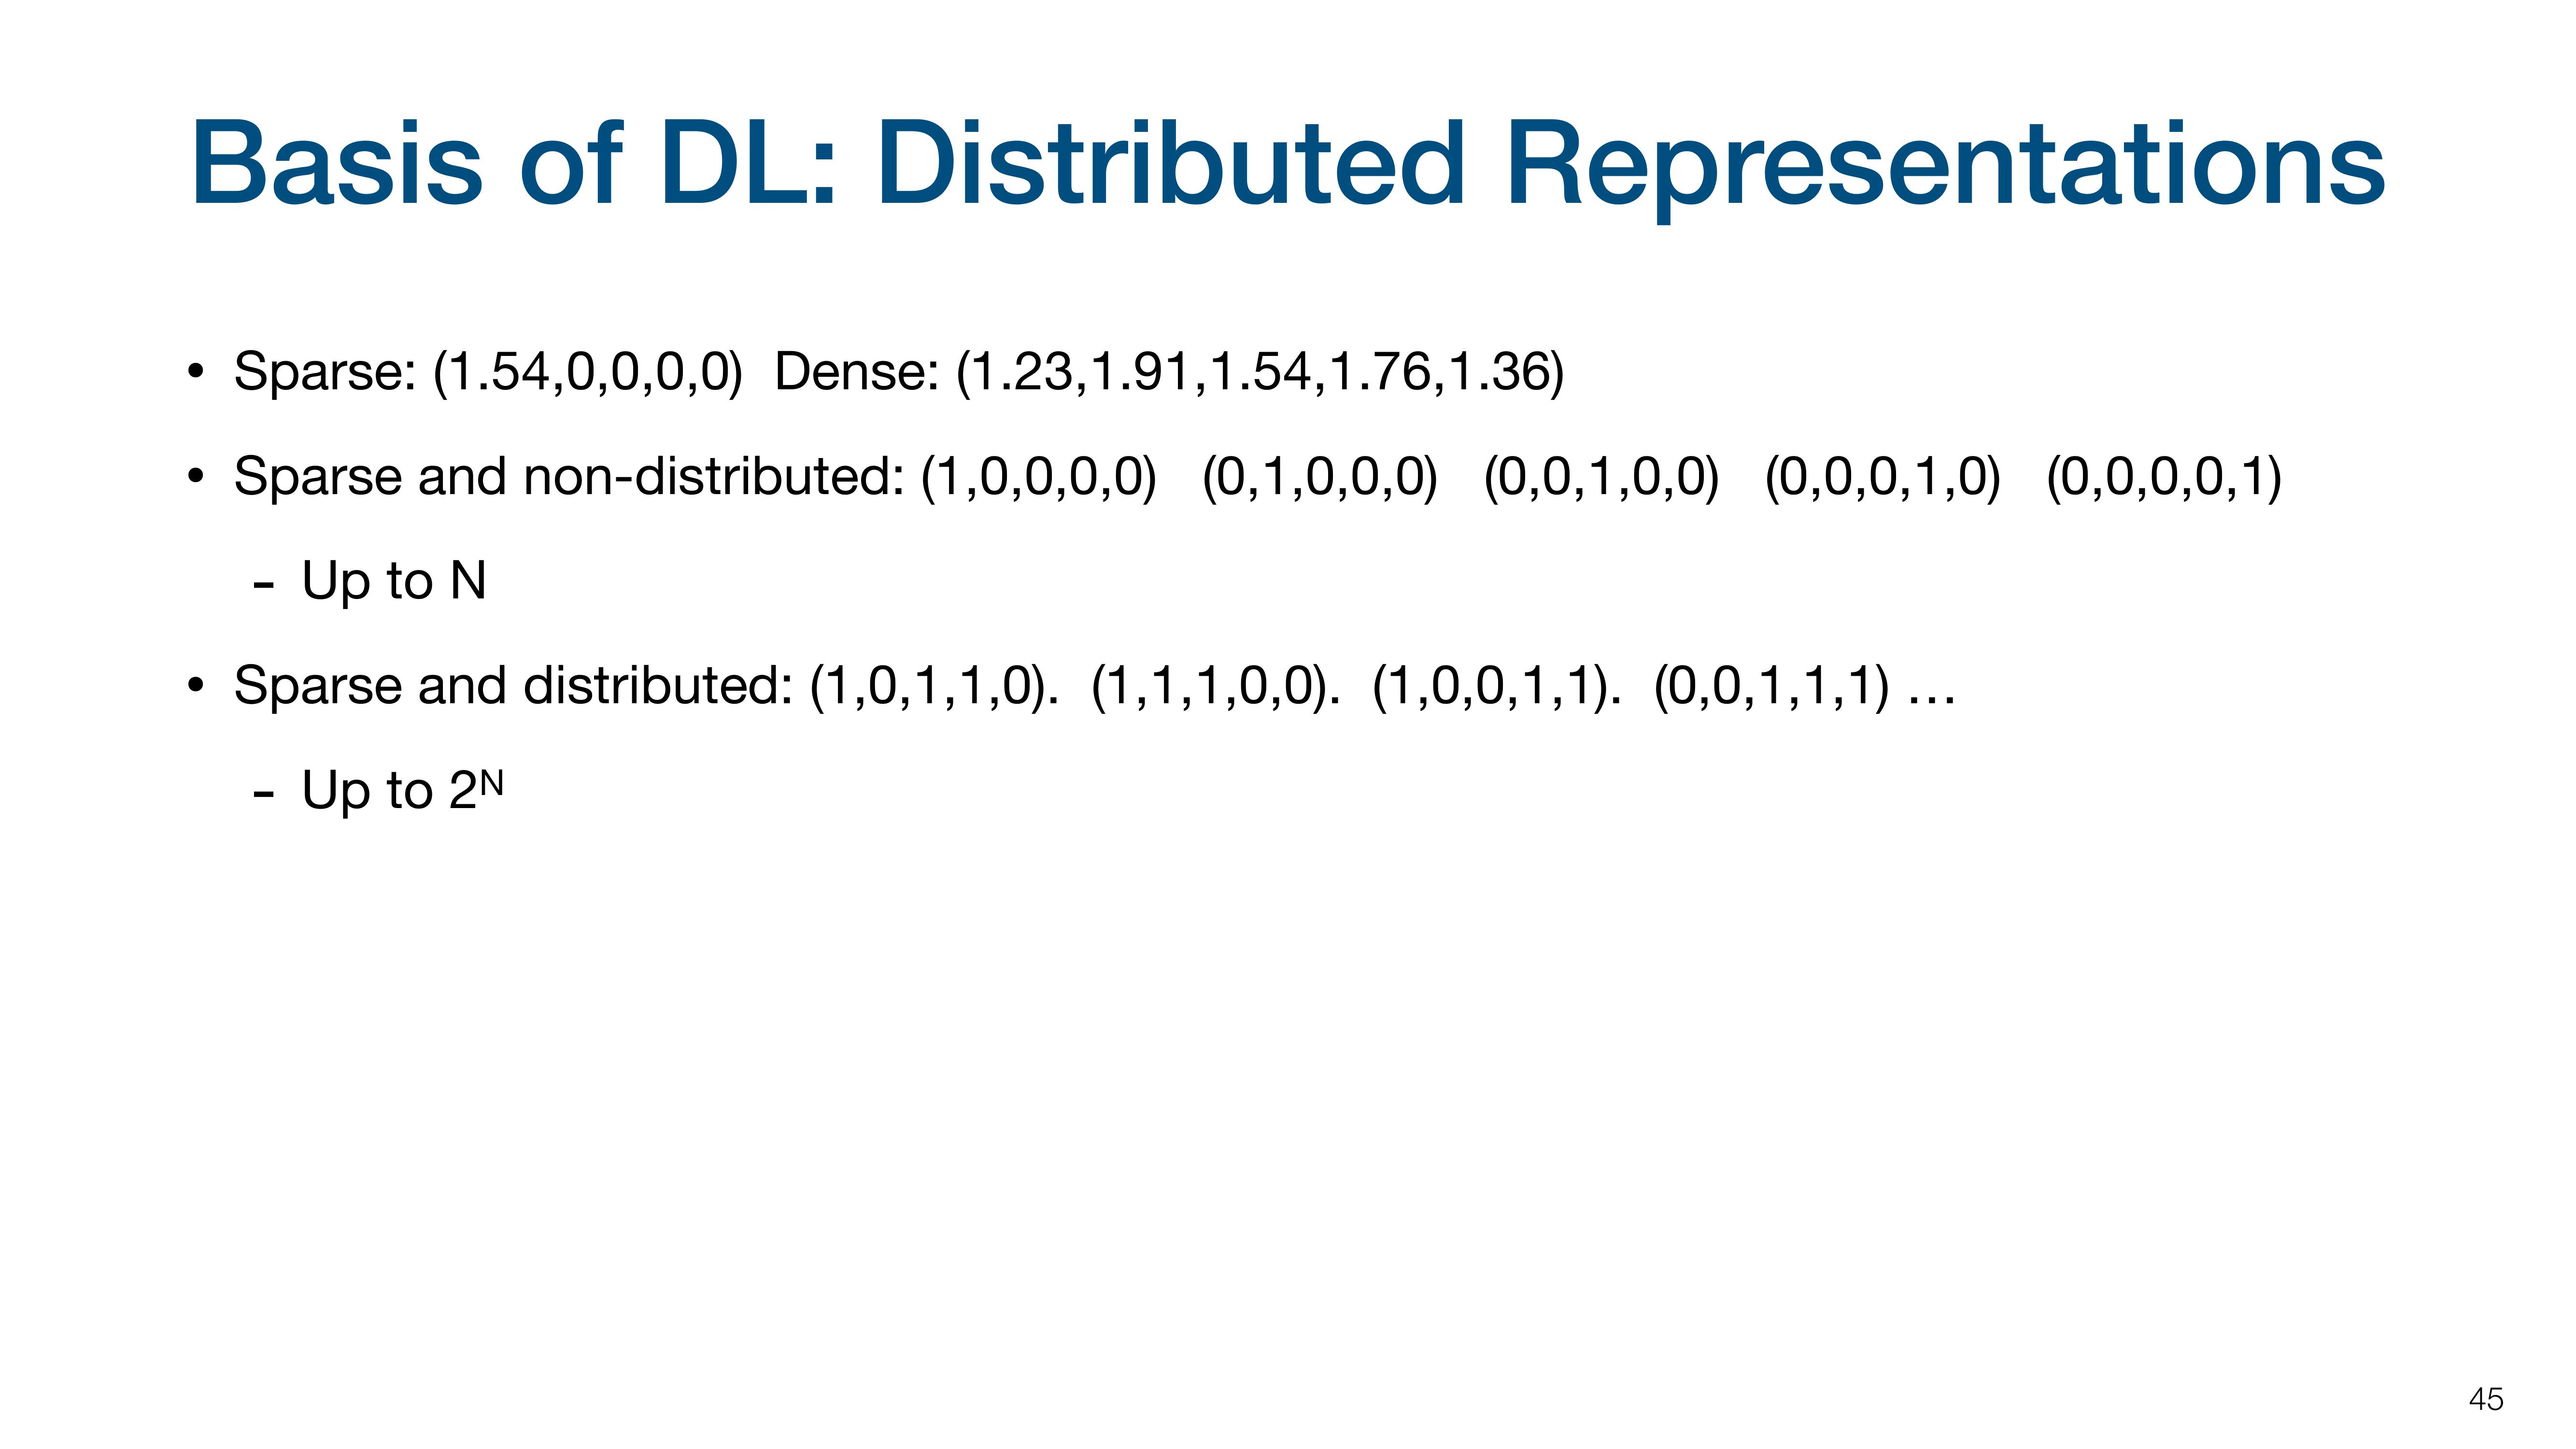Title: (165, 99, 2388, 253)
